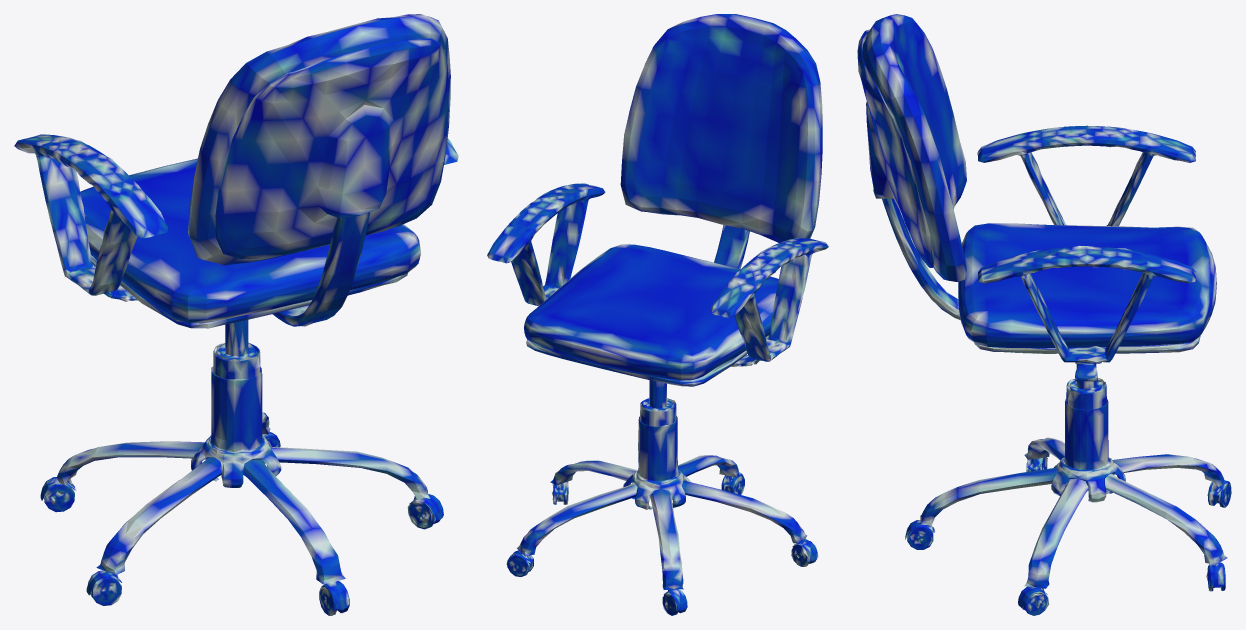
The model's file is chair5_final300.obj.
The picture shows the model from 3 angles, left to right: view 1: azimuth 30°, elevation 25°; view 2: azimuth 150°, elevation 25°; view 3: azimuth 270°, elevation 25°; orthographic projection. The views are drawn at different scales.
Size of the model in its own units: 0.7988 by 1.33 by 0.8728.
